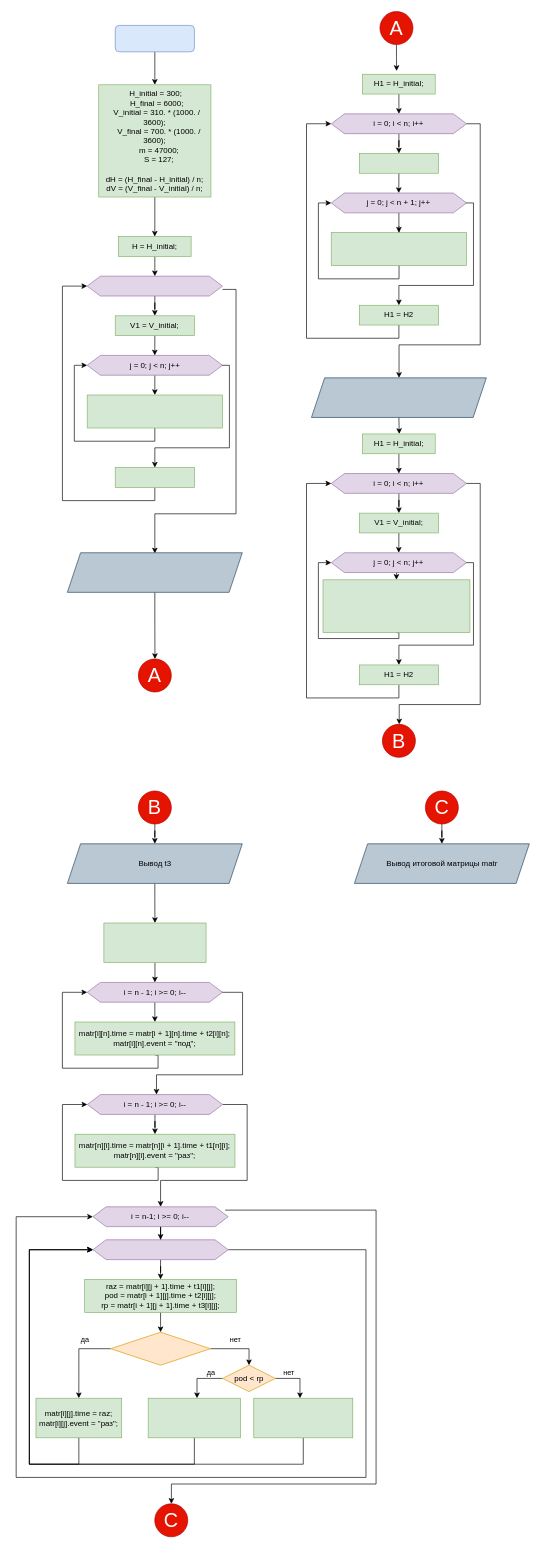
This 541x1548 diagram has some shape labels left out. Here are the shapes that lost their labels. From the top down, the box of each, then its label:
(115, 25, 194, 52): Начало
(359, 153, 439, 173): V = V_initial;
(331, 232, 467, 266): H2 = H1 + dH; t2[i][j] = lift_time(H1, H2, V); V = V + dV;
(87, 276, 222, 296): i = 0; i < n + 1; i++
(87, 394, 222, 428): V2 = V1 + dV; t1[i][j] = acceleration_time(V1, V2, H); V1 = V2;
(311, 377, 486, 417): Вывод t2
(115, 467, 194, 487): H = H + dH;
(67, 552, 242, 592): Вывод t1
(322, 579, 470, 633): V2 = V1 + dV; H2 = H1 + dH; t3[i][j] = accel_lift_time(V1, V2, H1, H2); V1 = V2;
(103, 922, 206, 963): matr[n][n].time = 0; matr.event = "нач";
(92, 1239, 228, 1260): j = n-1; j >= 0; j--
(110, 1332, 210, 1365): raz < pod && raz < rp
(148, 1398, 241, 1438): matr[i][j].time = pod; matrix[i][j].event = "под");
(253, 1398, 353, 1438): matr[i][j].time = rp; matrix[i][j].event = "р-п");
